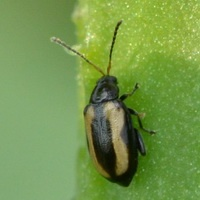insect: (51, 20, 154, 185)
